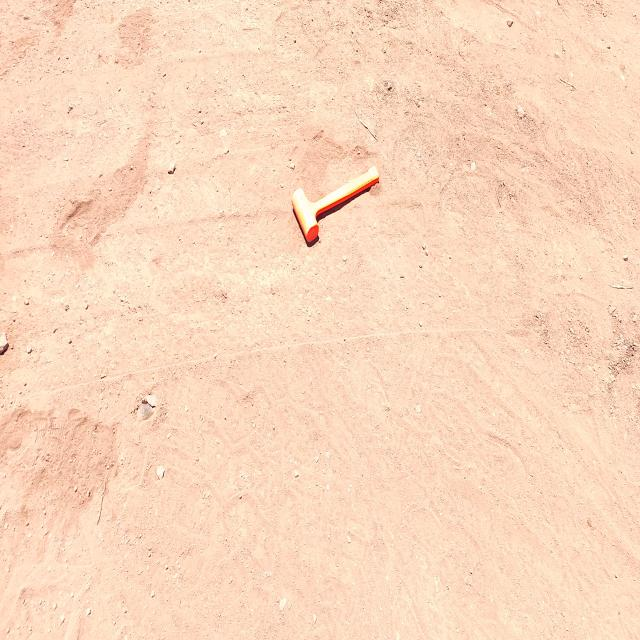Orange_hammer: (291, 164, 379, 246)
